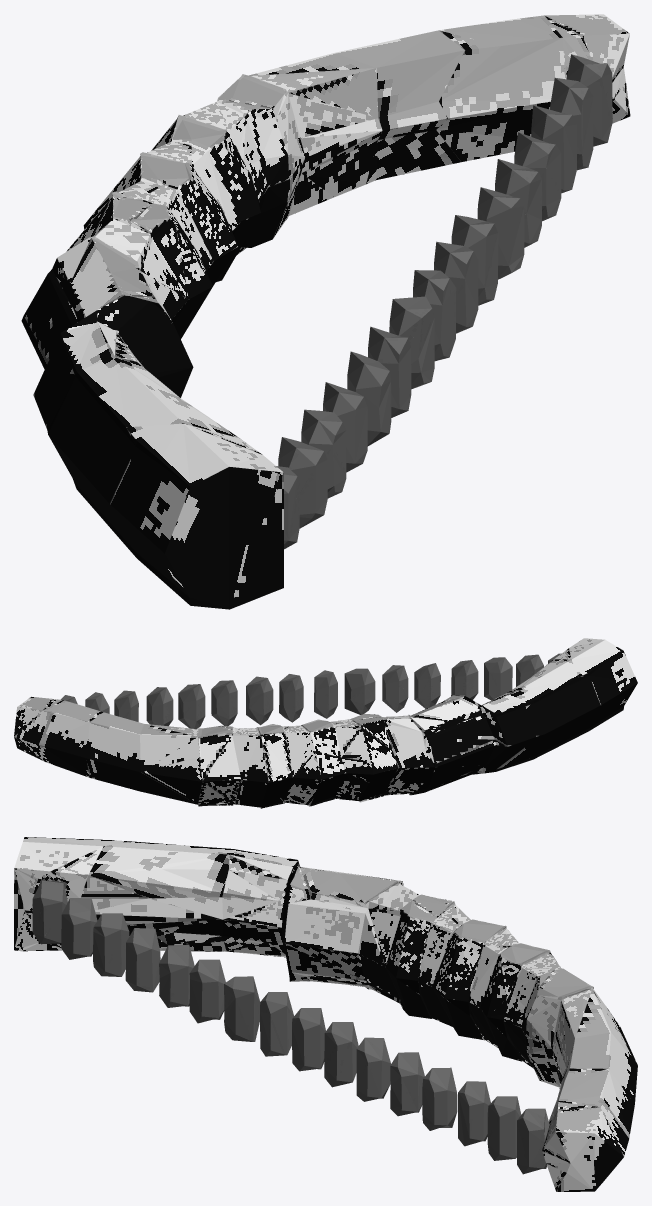
The picture shows the model from 3 angles, top to bottom: view 1: azimuth 30°, elevation 25°; view 2: azimuth 150°, elevation 25°; view 3: azimuth 270°, elevation 25°; orthographic projection. The views are drawn at different scales.
Parts seen in each view (by area): view 1: OBJ01f; view 2: OBJ01f; view 3: OBJ01f.
Part boxes in pixels (x1,y1,x2,y2): OBJ01f: (21,14,630,609); OBJ01f: (14,638,637,808); OBJ01f: (14,837,637,1191).
Size of the model in its own units: 0.4443 by 0.0807 by 0.3992.
1 material, 1 textured.
